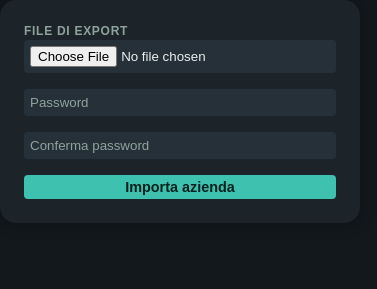
Test: ImportCompanyFormComponent › shows inline validation errors when submitting without a file or password
Click the button "Importa azienda": x=180, y=187 x1=24 y1=175 x2=336 y2=199
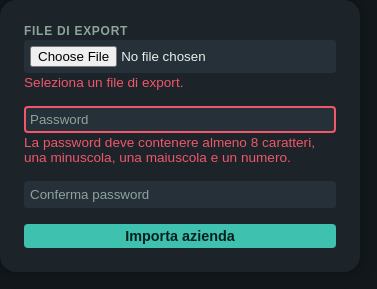
Expected: the text "Seleziona un file di export." is shown, x1=24 y1=75 x2=184 y2=90
Expected: the text "La password deve contenere almeno 8 caratteri, una minuscola, una maiuscola e un numero." is shown, x1=24 y1=135 x2=315 y2=165
